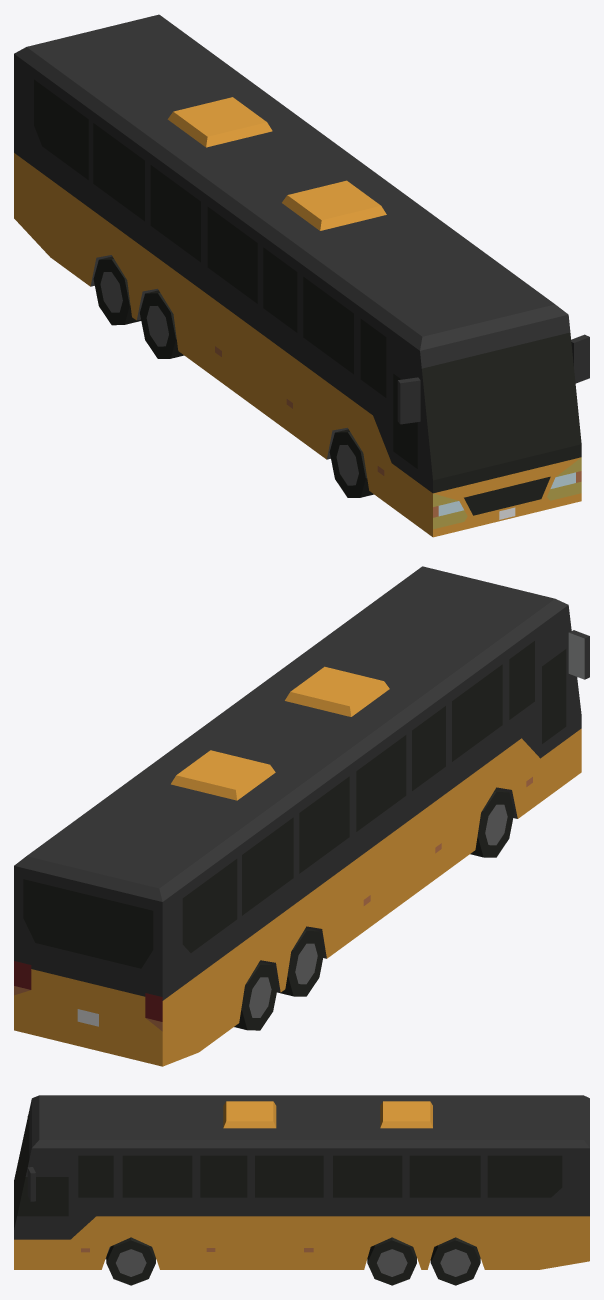
File: Veh_Coach_01_Yellow.obj
The picture shows the model from 3 angles, top to bottom: view 1: azimuth 30°, elevation 25°; view 2: azimuth 150°, elevation 25°; view 3: azimuth 270°, elevation 25°; orthographic projection. The views are drawn at different scales.
Bounding box in the file's own units: 1.75 × 1.9 × 6.68.
